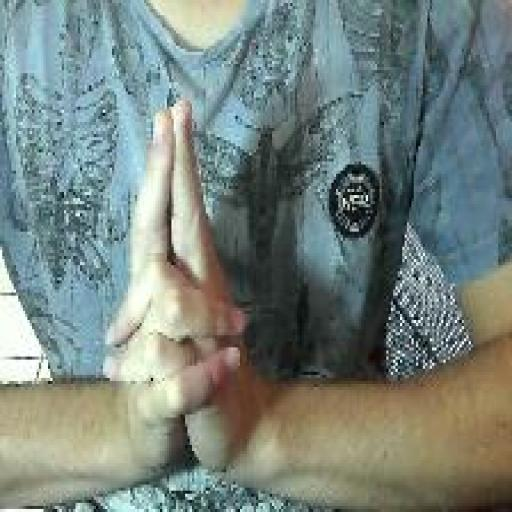Tora -tiger-: (98, 93, 252, 495)
